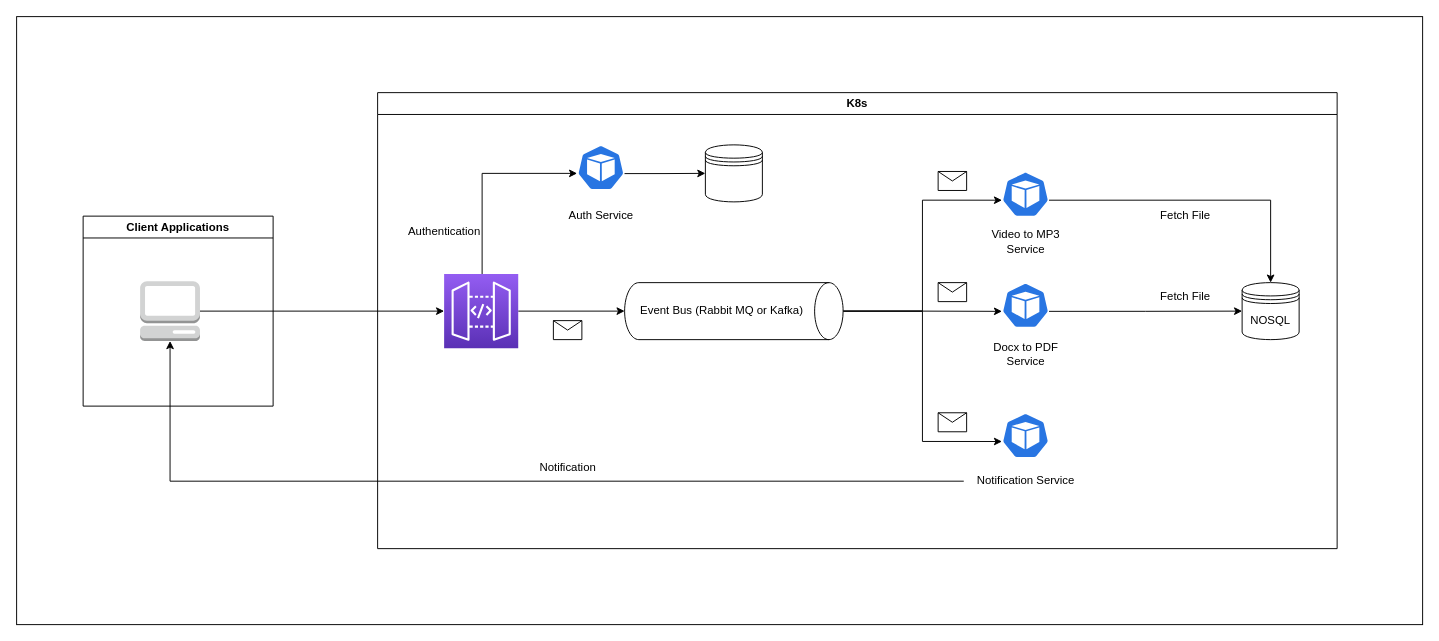
This 1439x641 diagram has some shape labels left out. Here are the shapes that lost their labels. From the top down, the centre of each, then its label:
point (733, 173): RDBMS
point (480, 310): API Gateway
